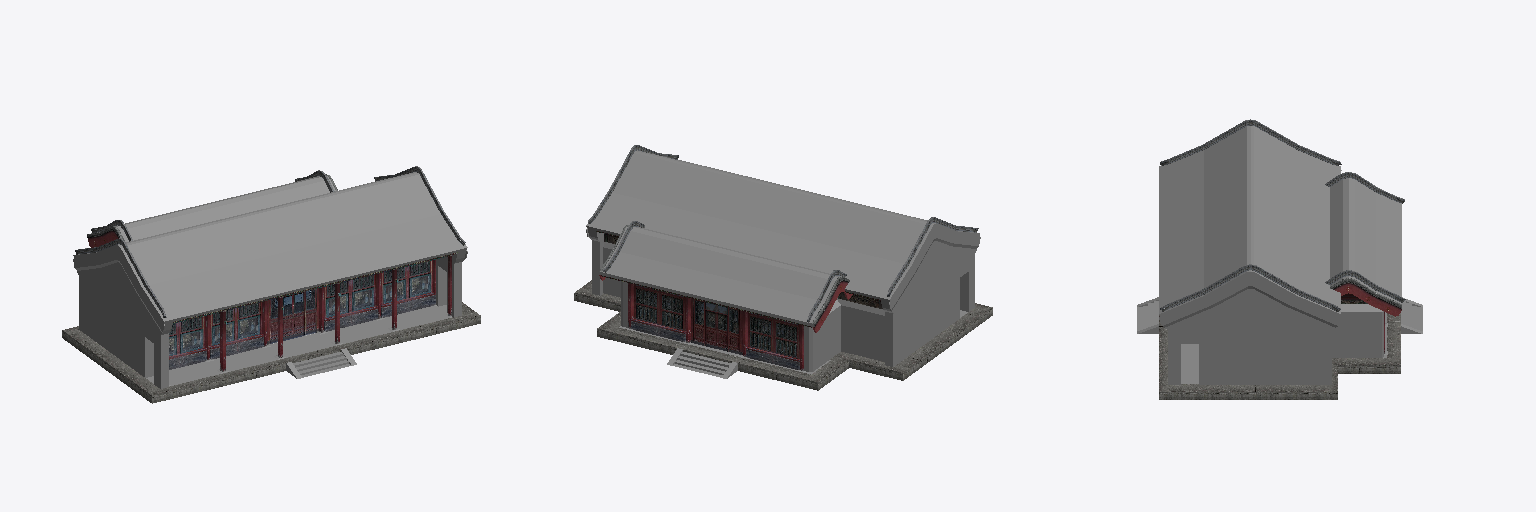
The picture shows the model from 3 angles: view 1: azimuth 30°, elevation 25°; view 2: azimuth 150°, elevation 25°; view 3: azimuth 270°, elevation 25°; orthographic projection.
Parts seen in each view (by area): view 1: polySurface967; view 2: polySurface967; view 3: polySurface967.
Part boxes in pixels (x1,y1,x2,y2): polySurface967: (62, 166, 480, 403); polySurface967: (574, 145, 992, 390); polySurface967: (1137, 119, 1422, 399).
Size of the model in its own units: 19.17 by 7.09 by 14.45.
Materials: 14 (8 with a texture image).